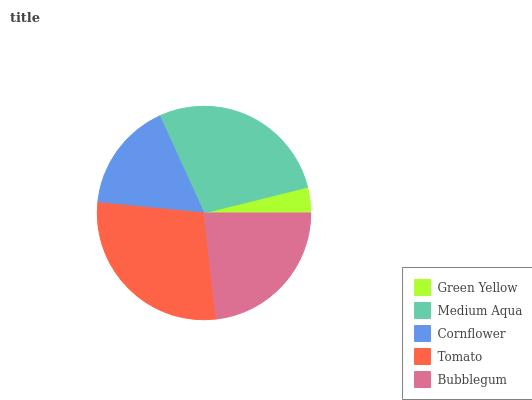legend: (403, 264, 532, 400)
sector: (160, 99, 308, 213), (97, 202, 216, 319), (203, 213, 311, 319), (96, 115, 204, 213), (204, 188, 311, 212)
